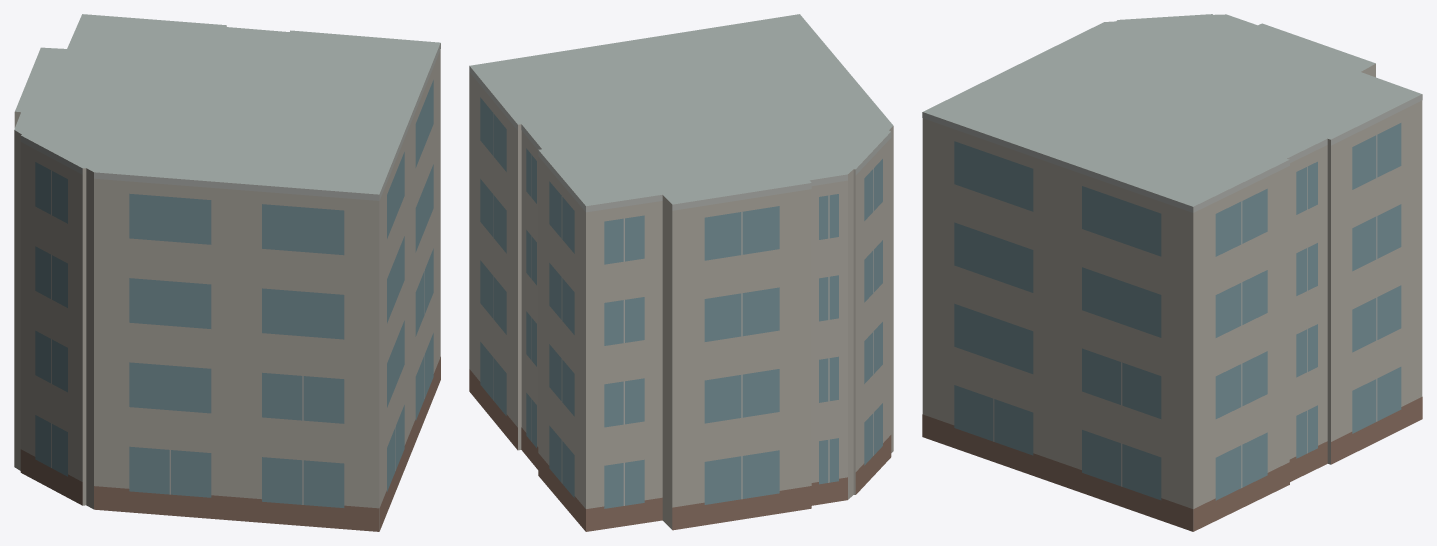
Rendered from survey-upis-32968396.glb.
3 views of the same model, side by side, from view 1: azimuth 30°, elevation 25°; view 2: azimuth 150°, elevation 25°; view 3: azimuth 270°, elevation 25° (orthographic). The views are drawn at different scales.
Visible parts, largest first — view 1: survey-upis-32968396.tmp; view 2: survey-upis-32968396.tmp; view 3: survey-upis-32968396.tmp.
Part boxes in pixels (x1=…): survey-upis-32968396.tmp: x1=14, y1=14, x2=440, y2=531; survey-upis-32968396.tmp: x1=469, y1=14, x2=893, y2=531; survey-upis-32968396.tmp: x1=922, y1=14, x2=1422, y2=531.
Size of the model in its own units: 16.42 by 12.9 by 17.99.
